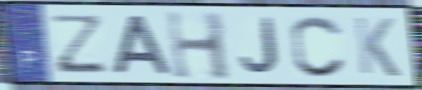A: (110, 12, 176, 76)
C: (289, 13, 348, 79)
H: (163, 8, 234, 82)
J: (238, 16, 281, 76)
K: (351, 14, 402, 79)
Z: (51, 12, 108, 75)
